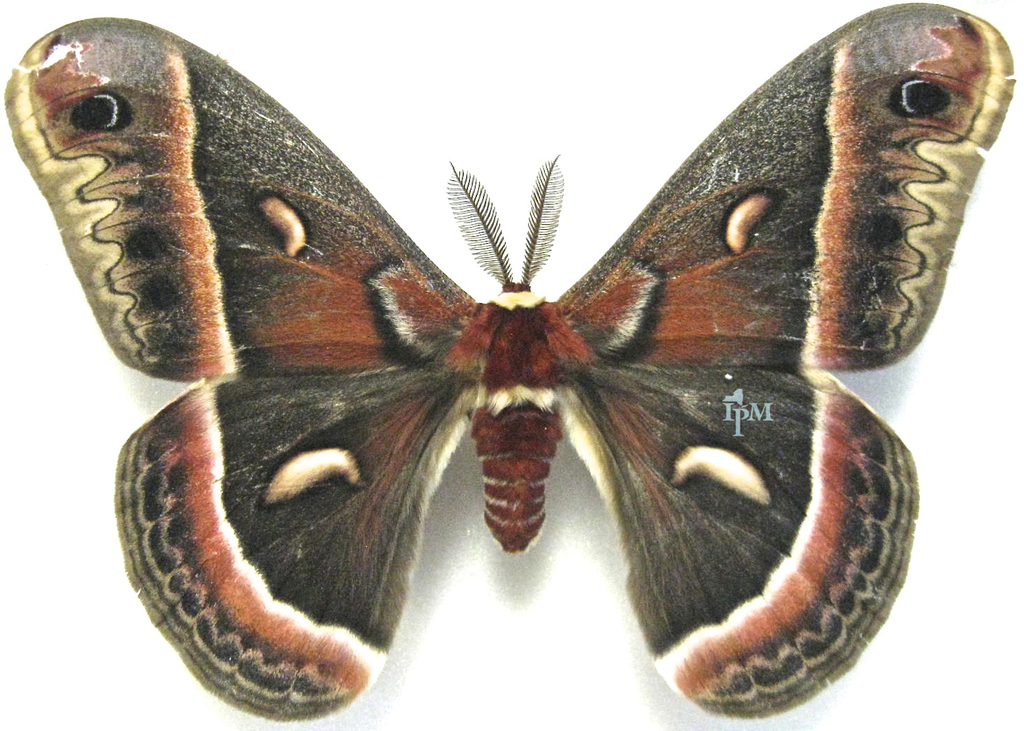Butterfly: (6, 3, 1002, 721)
